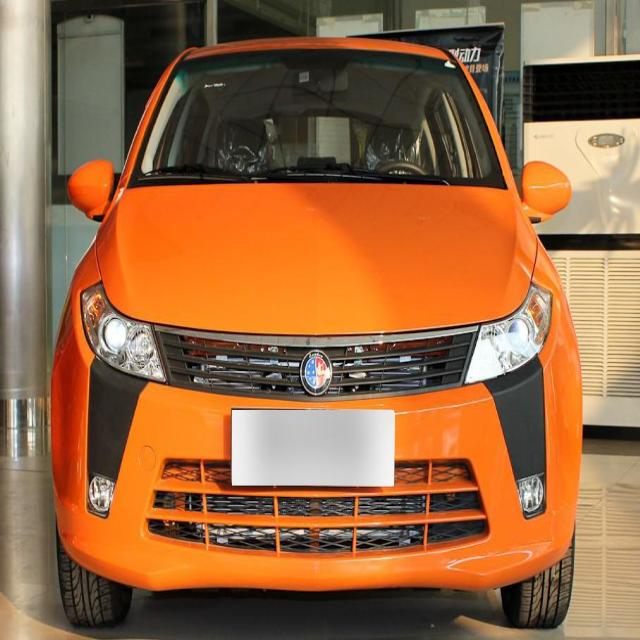front_bumper: (49, 326, 576, 593)
front_glass: (127, 49, 509, 188)
front_left_side_light: (462, 280, 558, 390)
front_left_side_mirror: (518, 157, 575, 222)
front_right_side_light: (80, 276, 168, 385)
front_right_side_mirror: (66, 157, 116, 224)
wheel: (508, 544, 576, 632), (58, 546, 125, 632)
